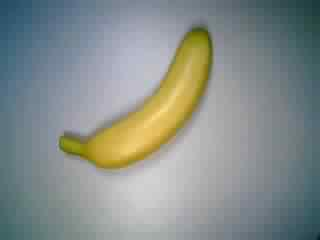banana: (49, 22, 225, 174)
